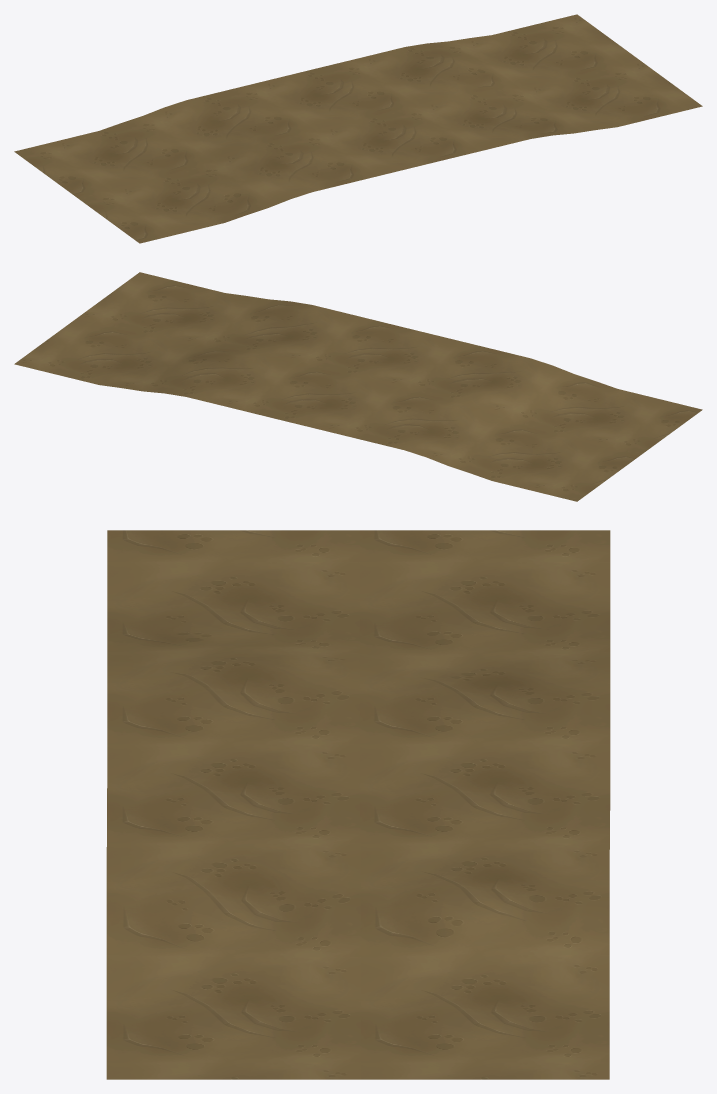
The model's file is A_CV_GEN_Floor_01.fbx.
3 views of the same model, one above another, from view 1: azimuth 30°, elevation 25°; view 2: azimuth 150°, elevation 25°; view 3: azimuth 270°, elevation 25° (orthographic). The views are drawn at different scales.
Parts seen in each view (by area): view 1: A_CV_GEN_Floor_01; view 2: A_CV_GEN_Floor_01; view 3: A_CV_GEN_Floor_01.
Boxes of the visible parts, x1=… form: A_CV_GEN_Floor_01: x1=14, y1=14, x2=702, y2=243; A_CV_GEN_Floor_01: x1=14, y1=272, x2=702, y2=501; A_CV_GEN_Floor_01: x1=106, y1=530, x2=610, y2=1079.
Size of the model in its own units: 3878 by 75.82 by 1502.
1 material, 1 textured.
